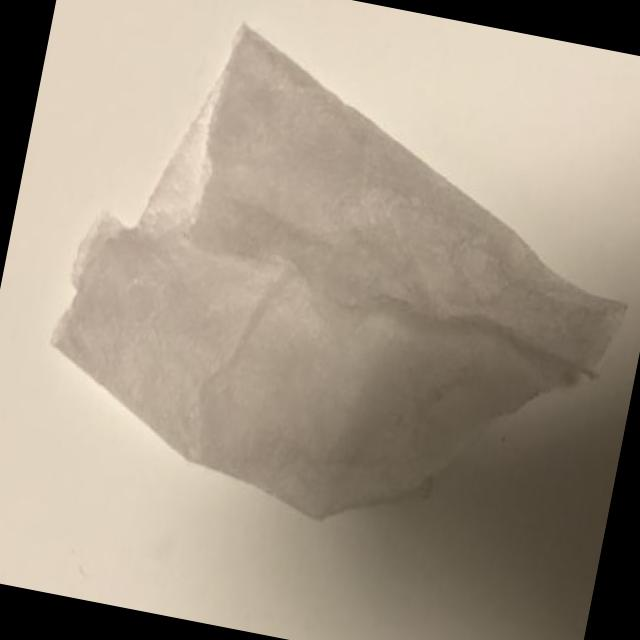Recycle: (31, 0, 640, 580)
